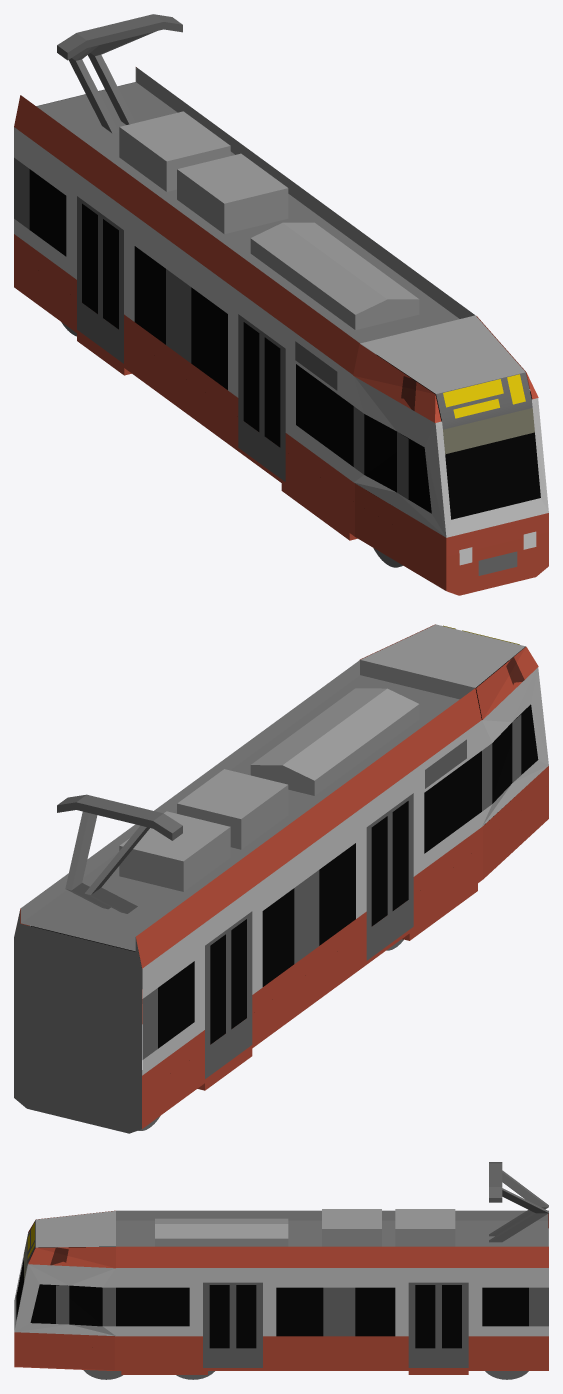
Rendered from flexity-swift-croydon-red.dae.
3 renders of one model, top to bottom at view 1: azimuth 30°, elevation 25°; view 2: azimuth 150°, elevation 25°; view 3: azimuth 270°, elevation 25°, orthographic. The views are drawn at different scales.
Parts seen in each view (by area): view 1: Cube, Plane_019, Plane_023, Plane_027, Plane_036, Cube_001, Plane_029, Cube_002, Cube_003, Plane_015, Plane_026, Plane_024 (+18 smaller); view 2: Plane_031, Cube, Plane_019, Plane_036, Plane_023, Cube_001, Plane_027, Plane_029, Cube_003, Cube_002, Plane_015, Plane_026 (+16 smaller); view 3: Cube, Plane_019, Plane_027, Plane_023, Plane_029, Plane_036, Plane_002, Cube_001, Plane_018, Plane_021, Plane_005, Plane_042 (+18 smaller).
Part boxes in pixels (<box>): Cube: <box>29,169,540,519</box>; Plane_019: <box>14,253,548,595</box>; Plane_023: <box>136,67,525,393</box>; Plane_027: <box>285,326,548,537</box>; Plane_036: <box>37,82,459,343</box>; Cube_001: <box>250,222,419,329</box>; Plane_029: <box>14,234,548,556</box>; Cube_002: <box>177,153,288,234</box>; Cube_003: <box>119,111,230,191</box>; Plane_015: <box>124,207,238,397</box>; Plane_026: <box>238,259,359,374</box>; Plane_024: <box>124,175,244,290</box>; Plane_031: <box>14,910,141,1133</box>; Cube: <box>31,660,538,1048</box>; Plane_019: <box>142,785,548,1128</box>; Plane_036: <box>21,675,459,951</box>; Plane_023: <box>21,624,525,922</box>; Cube_001: <box>250,688,419,795</box>; Plane_027: <box>413,667,548,876</box>; Plane_029: <box>142,766,548,1094</box>; Cube_003: <box>119,811,230,891</box>; Cube_002: <box>177,769,288,849</box>; Plane_015: <box>252,805,366,994</box>; Plane_026: <box>360,688,481,803</box>; Cube: <box>16,1246,528,1348</box>; Plane_019: <box>14,1344,548,1374</box>; Plane_027: <box>14,1232,202,1336</box>; Plane_023: <box>35,1210,548,1247</box>; Plane_029: <box>14,1332,548,1348</box>; Plane_036: <box>116,1220,548,1246</box>; Plane_002: <box>263,1268,408,1336</box>; Cube_001: <box>155,1218,288,1246</box>; Plane_018: <box>116,1246,262,1267</box>; Plane_021: <box>263,1246,408,1267</box>; Plane_005: <box>468,1268,548,1336</box>; Plane_042: <box>408,1282,468,1367</box>.
Size of the model in its own units: 1.51 by 8.51 by 3.39.
